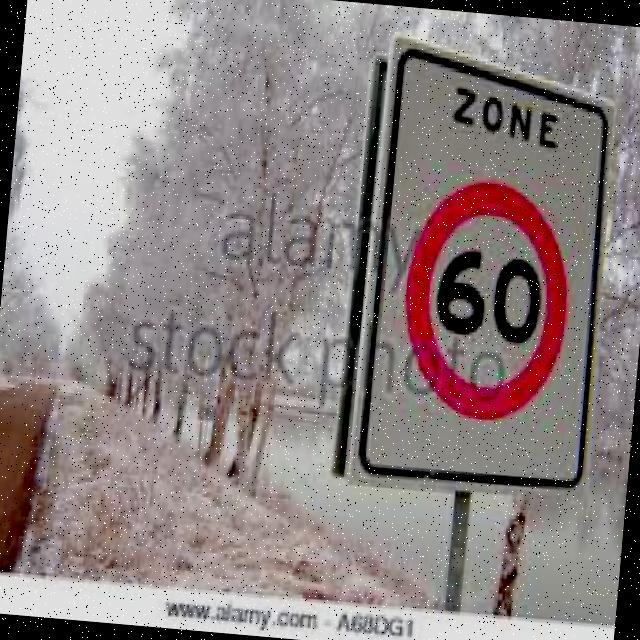Ograniczenie predkosci do 60: (398, 170, 581, 422)
